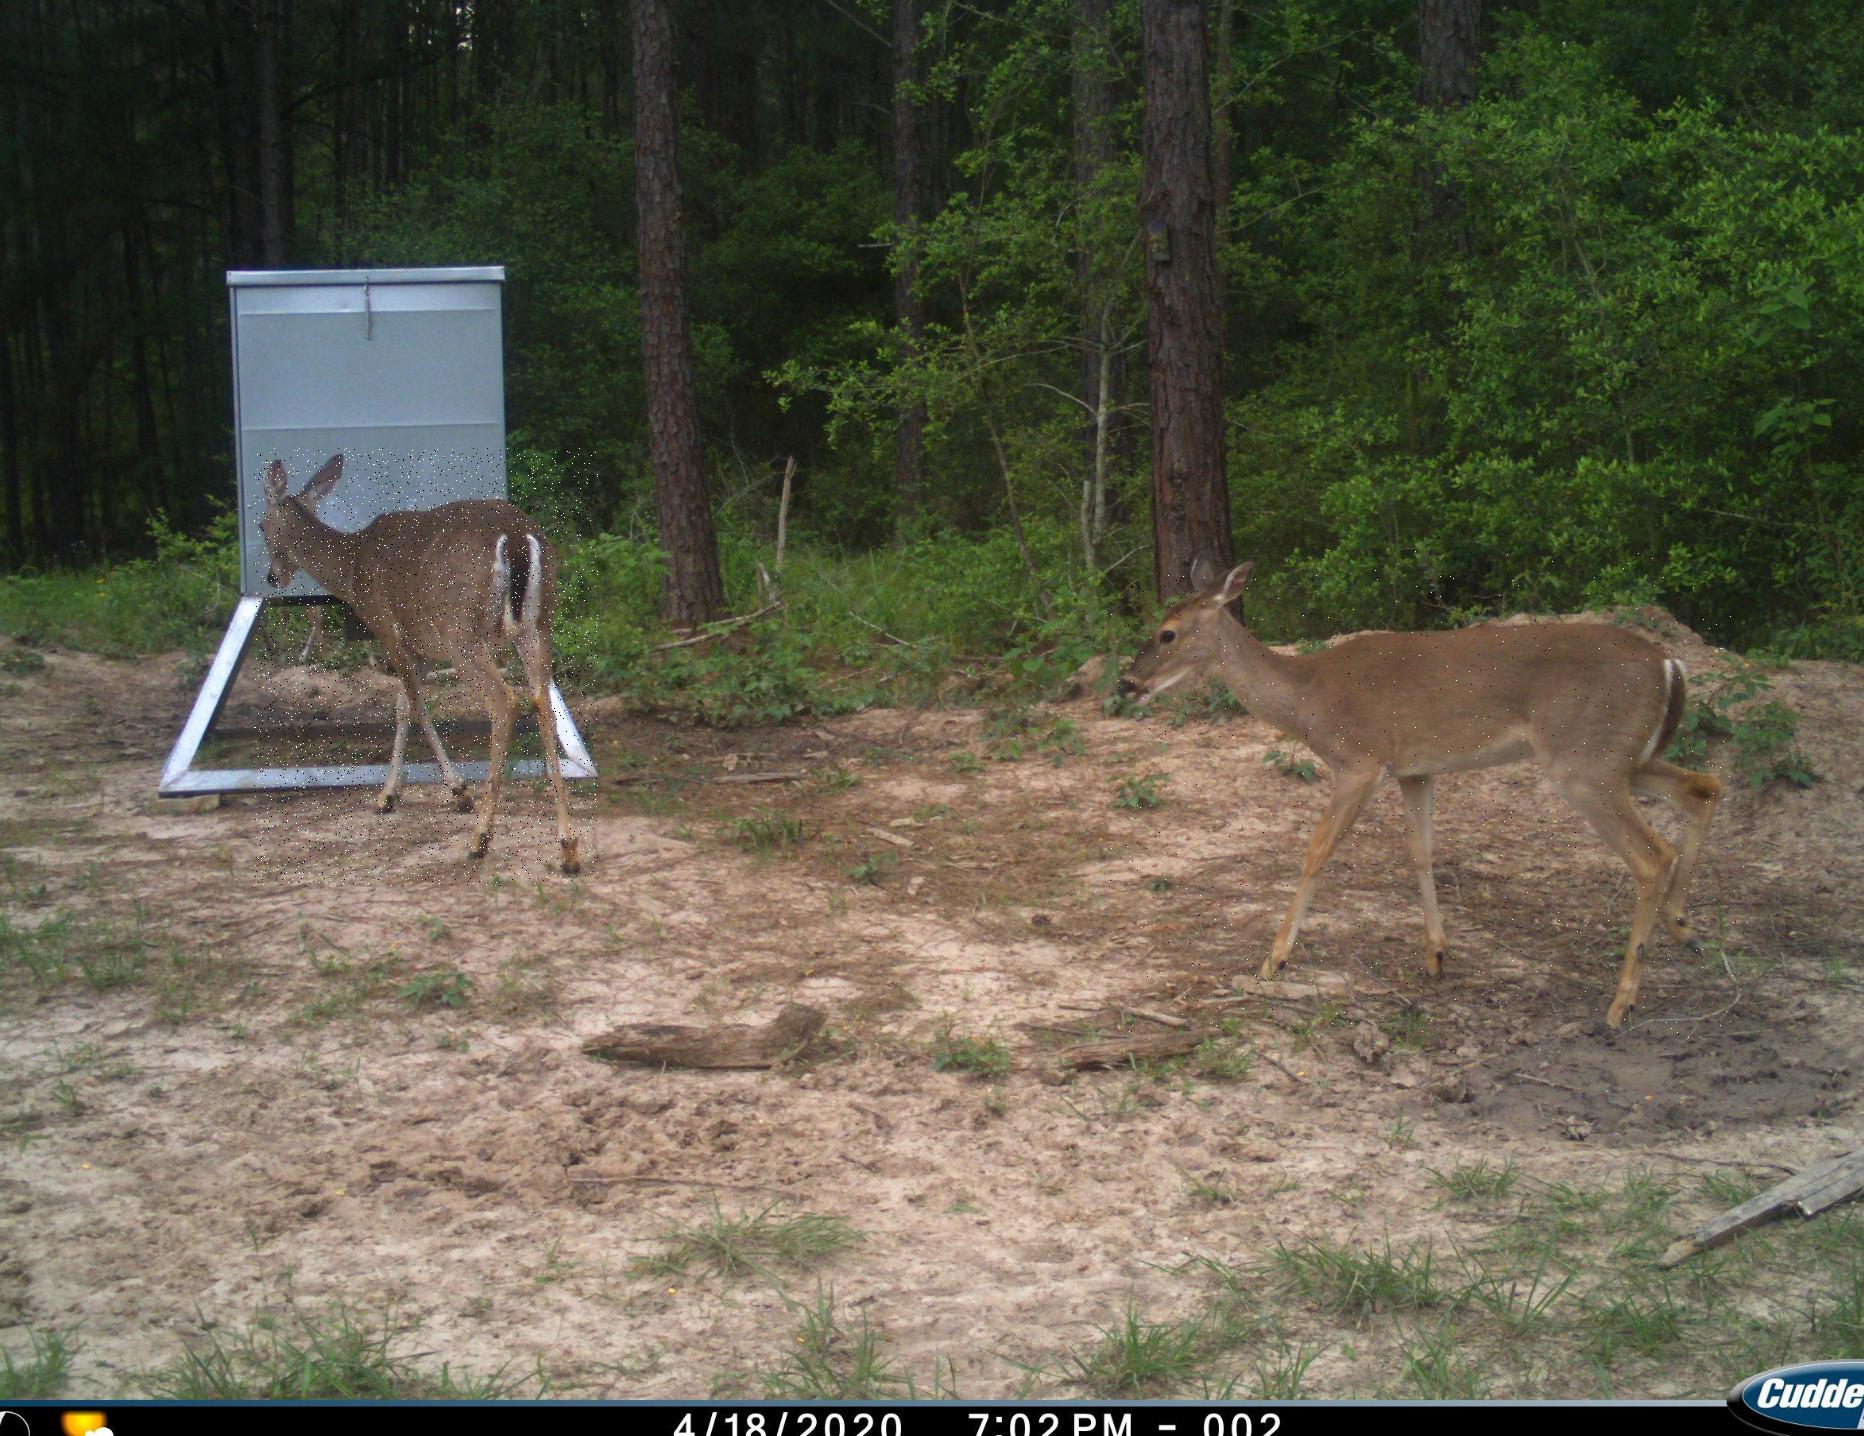Deer: (1108, 549, 1749, 1053), (253, 448, 599, 885)
